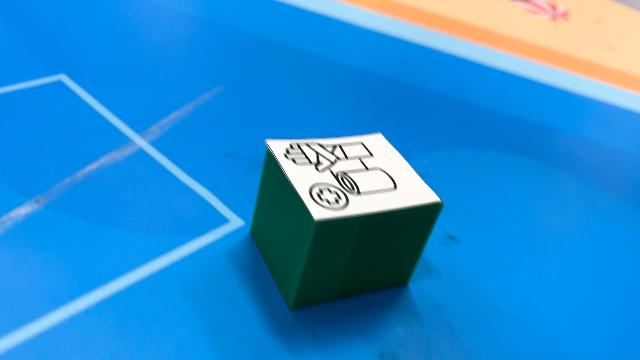bandage: (249, 131, 443, 311)
